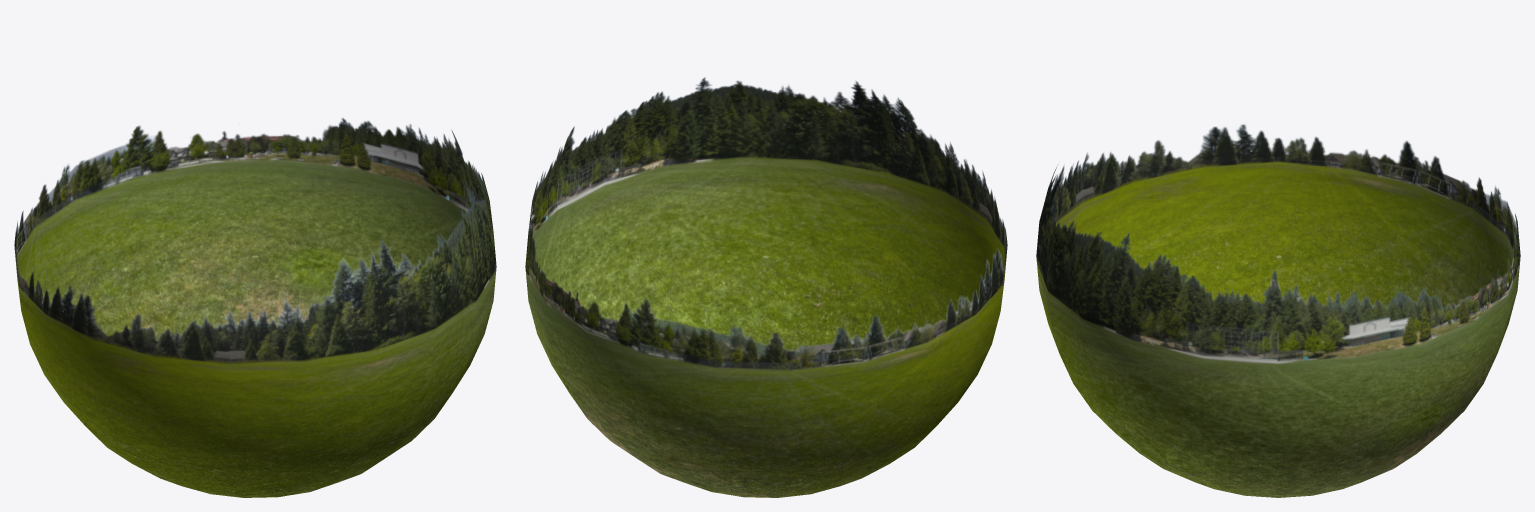
File: pole.glb
The picture shows the model from 3 angles, left to right: view 1: azimuth 30°, elevation 25°; view 2: azimuth 150°, elevation 25°; view 3: azimuth 270°, elevation 25°; orthographic projection.
Visible parts, largest first — view 1: pSphere1; view 2: pSphere1; view 3: pSphere1.
Boxes of the visible parts, box(x1,y1,x2,y2) form: pSphere1: box(14, 118, 496, 497); pSphere1: box(525, 77, 1007, 497); pSphere1: box(1036, 124, 1520, 497).
Size of the model in its own units: 1800 by 1800 by 1800.
5 materials, 4 textured.
